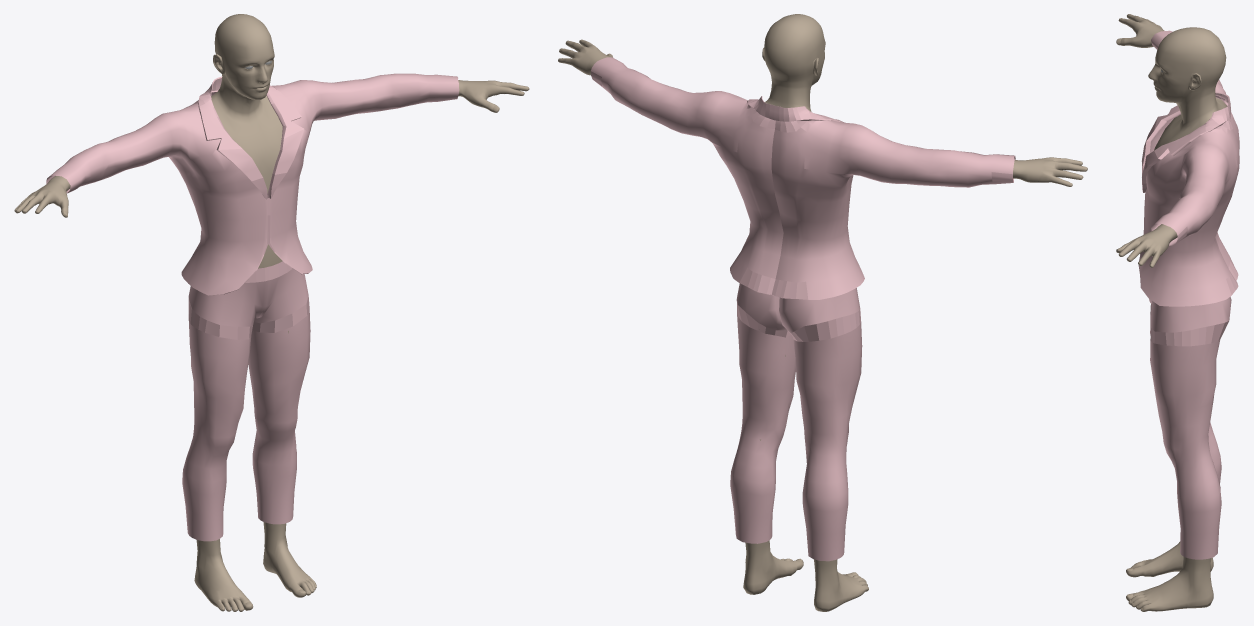
File: Suit_Male_Model.fbx
3 views of the same model, side by side, from view 1: azimuth 30°, elevation 25°; view 2: azimuth 150°, elevation 25°; view 3: azimuth 270°, elevation 25° (orthographic). The views are drawn at different scales.
Visible parts, largest first — view 1: suit, pants, body; view 2: suit, pants, body; view 3: suit, pants, body.
Boxes of the visible parts, x1,y1,x2,y2 form: suit: [46, 73, 459, 295]; pants: [182, 261, 310, 541]; body: [14, 14, 529, 611]; suit: [591, 57, 1015, 299]; pants: [730, 283, 862, 561]; body: [558, 14, 1087, 611]; suit: [1138, 30, 1239, 306]; pants: [1149, 296, 1231, 559]; body: [1116, 14, 1227, 611].
Size of the model in its own units: 339 by 359 by 71.69.
